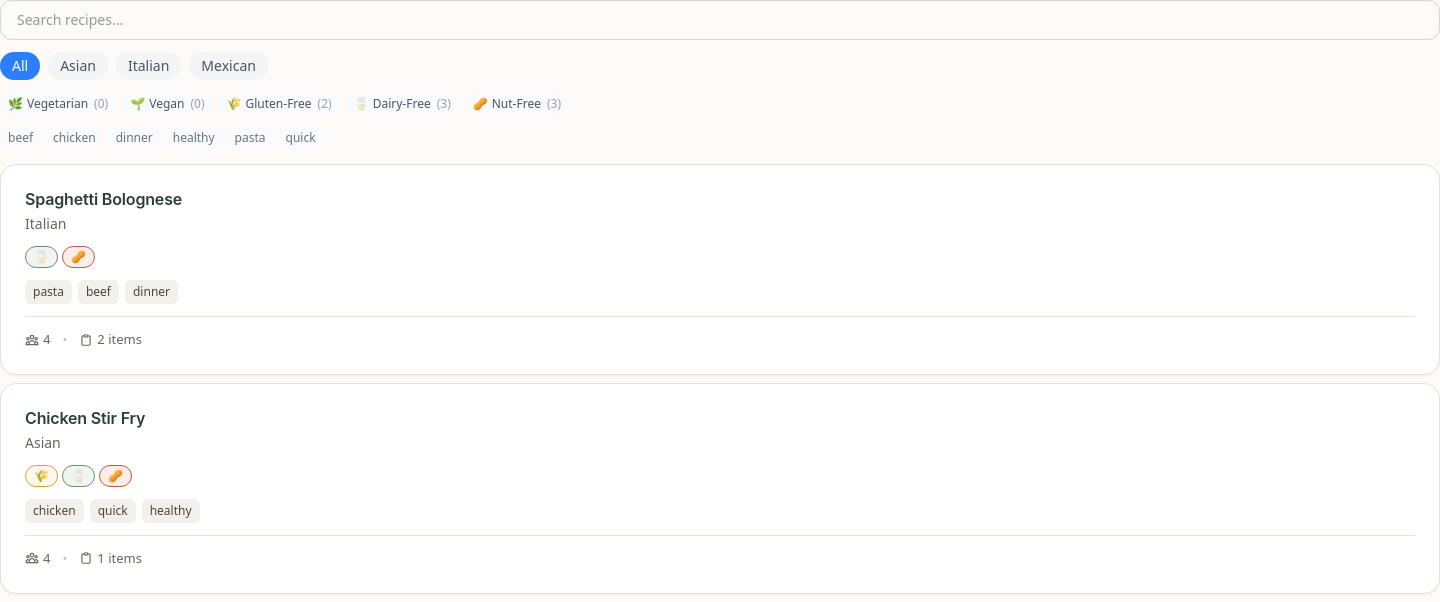
Scenario: RecipeList › filters recipes by tag button
The image size is (1440, 602).
Note: Find and click the 'quick' tag filter button
Click the button "quick" at x=301, y=138, box left=278, top=128, right=324, bottom=148
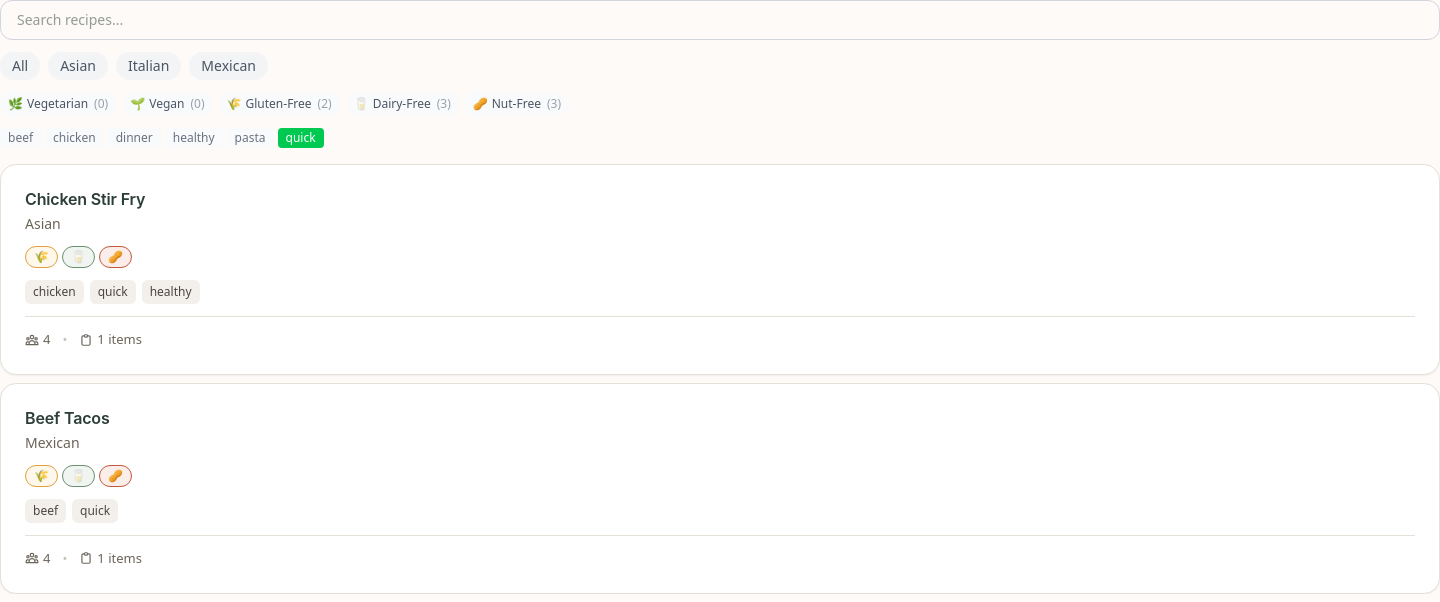
Expected: the heading "Chicken Stir Fry" is shown, left=25, top=189, right=145, bottom=209
Expected: the button "Spaghetti Bolognese" is gone
